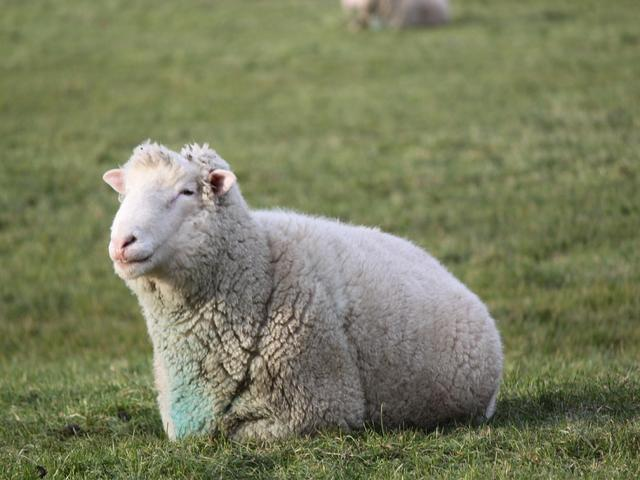sheep: (83, 90, 527, 451)
